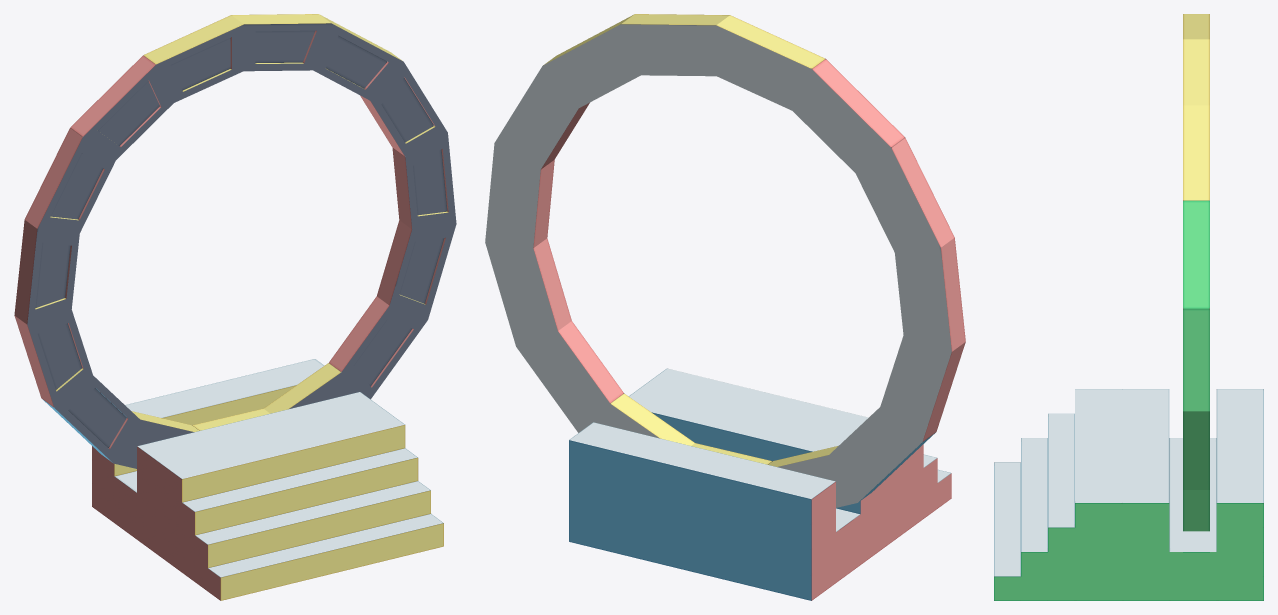
Rendered from stargate.fbx.
3 renders of one model, left to right at view 1: azimuth 30°, elevation 25°; view 2: azimuth 150°, elevation 25°; view 3: azimuth 270°, elevation 25°, orthographic. The views are drawn at different scales.
Parts seen in each view (by area): view 1: cylinder, cuboid; view 2: cylinder, cuboid; view 3: cuboid, cylinder.
Boxes of the visible parts, x1=… form: cylinder: x1=14, y1=14, x2=456, y2=468; cuboid: x1=92, y1=359, x2=443, y2=600; cylinder: x1=485, y1=14, x2=965, y2=507; cuboid: x1=569, y1=368, x2=951, y2=600; cuboid: x1=994, y1=389, x2=1263, y2=600; cylinder: x1=1183, y1=14, x2=1209, y2=531.
Size of the model in its own units: 120 by 129 by 62.5.
Materials: 2 (2 with a texture image).
